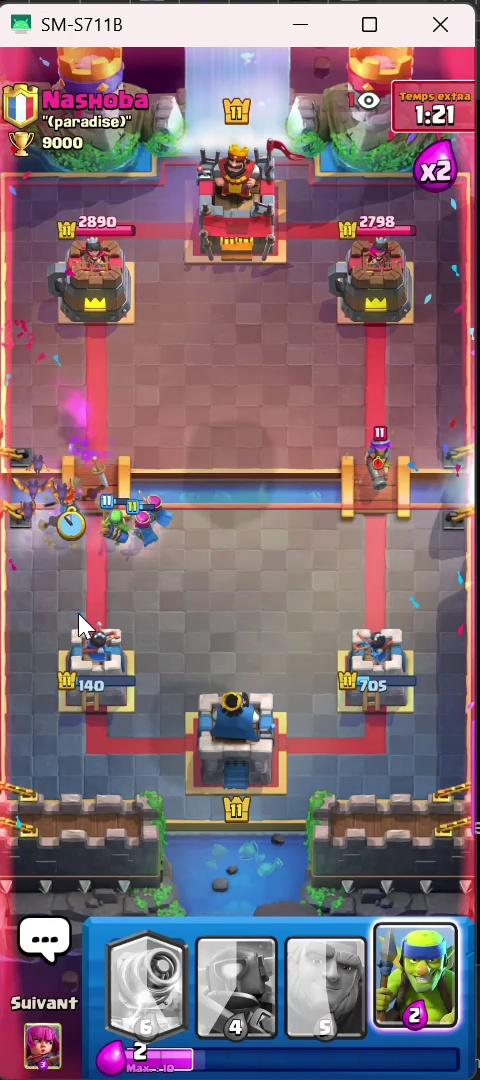archere: (128, 500, 169, 543), (140, 493, 187, 530)
bat: (17, 441, 53, 478), (8, 473, 48, 499), (53, 473, 85, 500)
gobelin_lances: (99, 499, 130, 546)
mousquetaire: (361, 415, 405, 519)
valkyrie: (50, 480, 106, 535)
